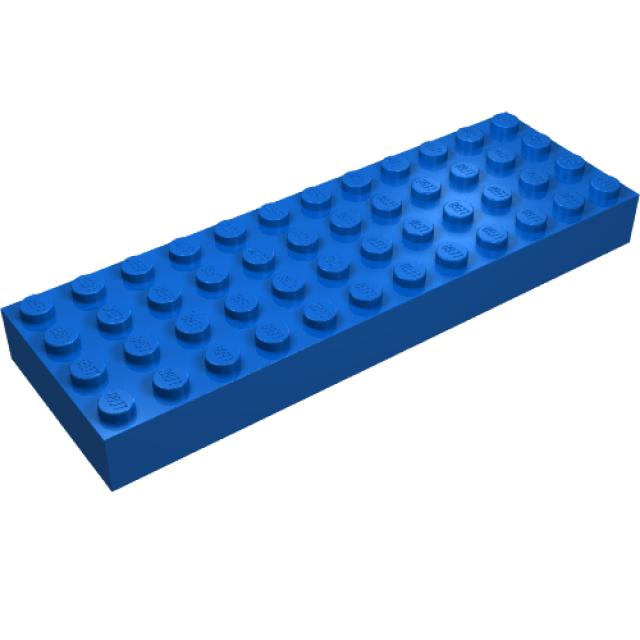Blue_Large: (0, 113, 639, 494)
